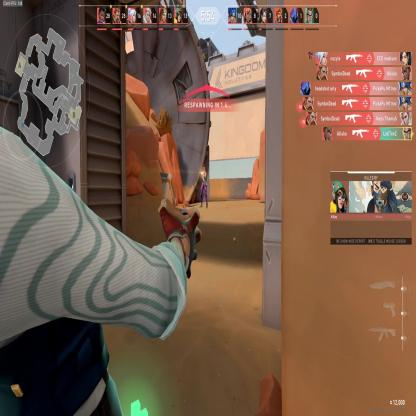enemy: (200, 163, 208, 209)
